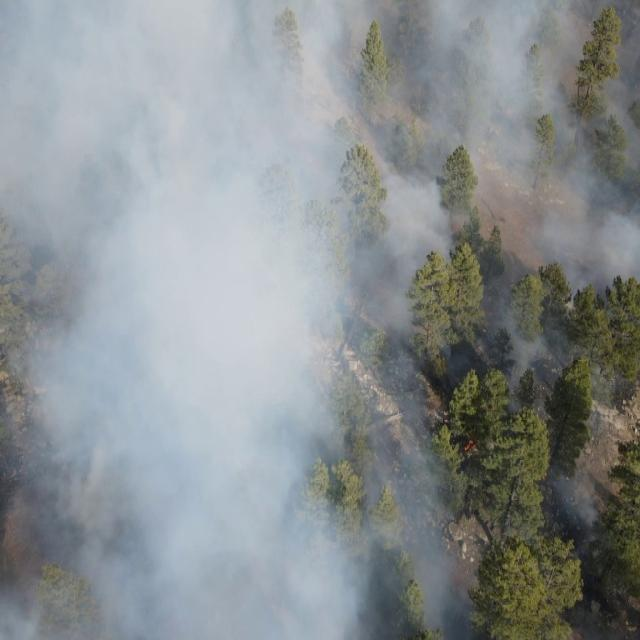fire: (464, 433, 490, 448)
smoke: (1, 1, 640, 264), (1, 262, 458, 548), (0, 547, 502, 640), (489, 278, 564, 392), (551, 468, 604, 546), (563, 265, 640, 315)
